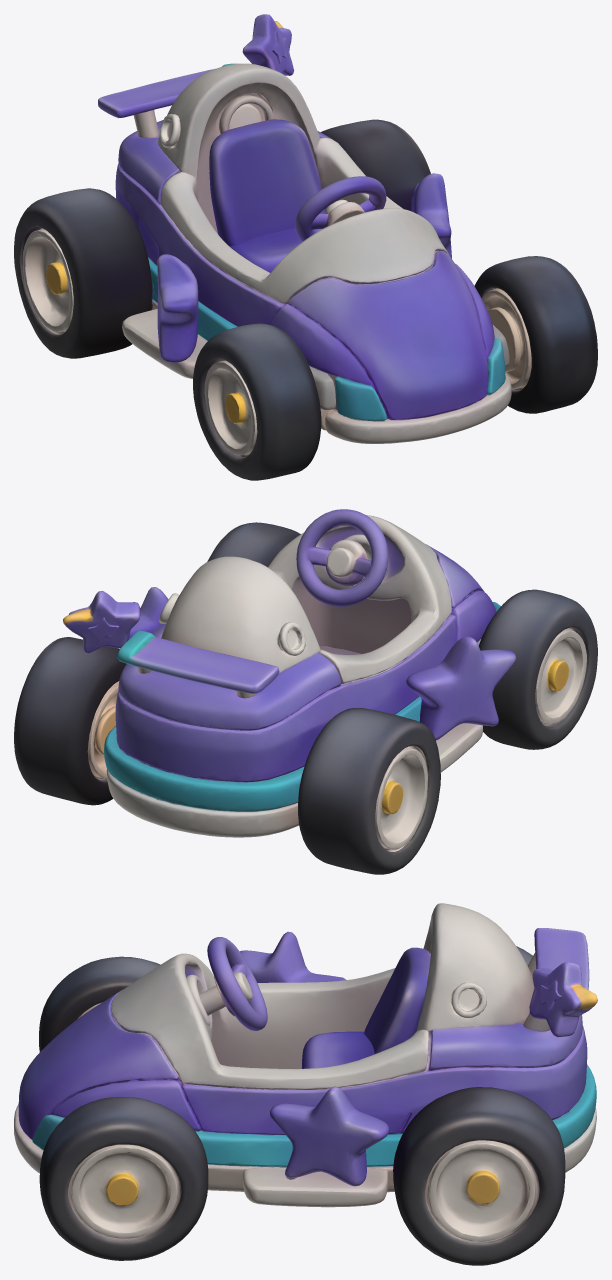
Rendered from nova-cartoon-source.glb.
The picture shows the model from 3 angles, top to bottom: view 1: azimuth 30°, elevation 25°; view 2: azimuth 150°, elevation 25°; view 3: azimuth 270°, elevation 25°; orthographic projection. The views are drawn at different scales.
Parts seen in each view (by area): view 1: model; view 2: model; view 3: model.
Part boxes in pixels (x1,y1,x2,y2): model: [14, 14, 597, 480]; model: [14, 509, 597, 874]; model: [14, 903, 597, 1265].
Bounding box in the file's own units: 1.41 × 0.9685 × 1.9.
1 material, 1 textured.
